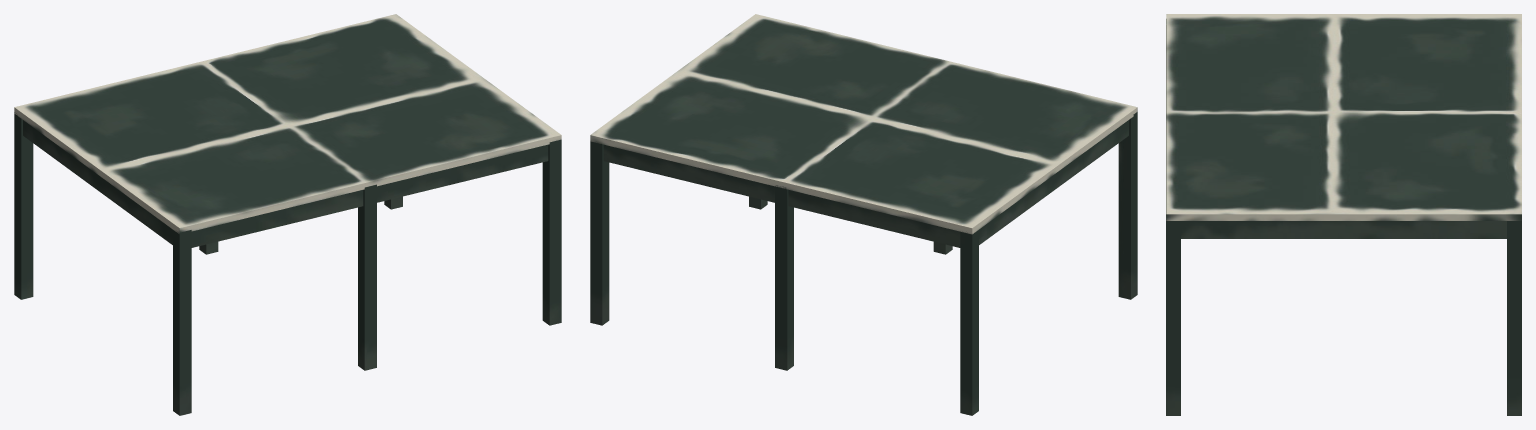
The model's file is prom_table.fbx.
3 renders of one model, left to right at view 1: azimuth 30°, elevation 25°; view 2: azimuth 150°, elevation 25°; view 3: azimuth 270°, elevation 25°, orthographic. The views are drawn at different scales.
Visible parts, largest first — view 1: polySurface1; view 2: polySurface1; view 3: polySurface1.
Part boxes in pixels (left/top/right/bottom): polySurface1: left=14, top=14, right=561, bottom=415; polySurface1: left=590, top=14, right=1137, bottom=415; polySurface1: left=1166, top=14, right=1521, bottom=415.
Size of the model in its own units: 48 by 22.54 by 36.02.
